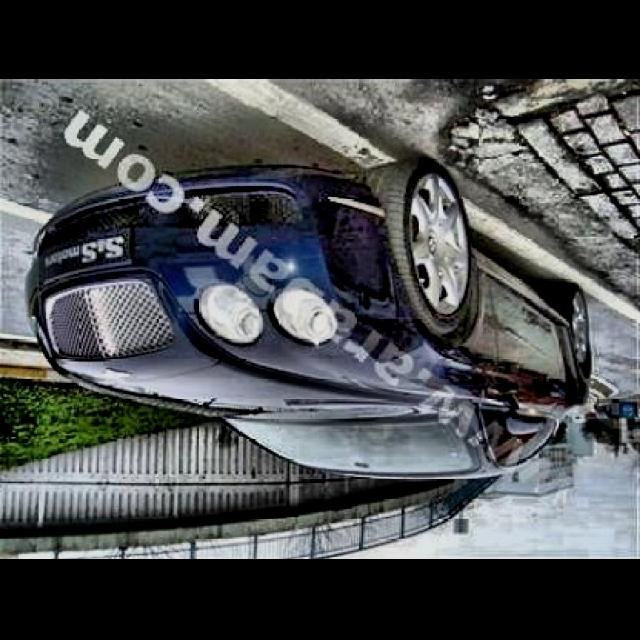blue: (0, 94, 596, 507)
